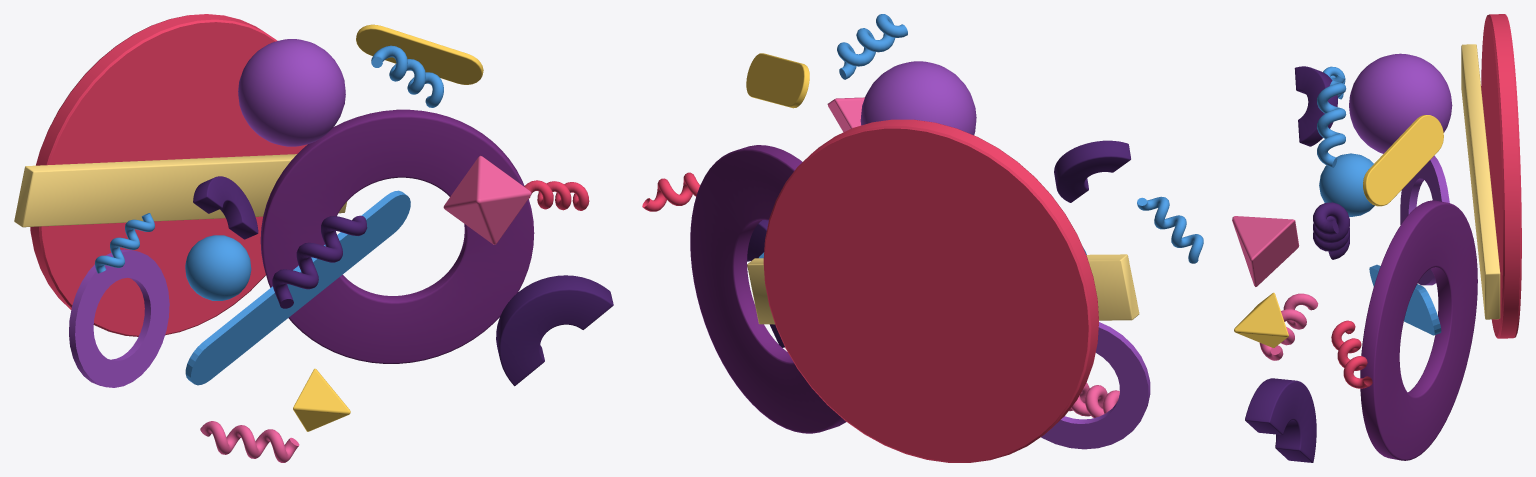
File: background.glb
The picture shows the model from 3 angles, left to right: view 1: azimuth 30°, elevation 25°; view 2: azimuth 150°, elevation 25°; view 3: azimuth 270°, elevation 25°; orthographic projection. The views are drawn at different scales.
Visible parts, largest first — view 1: Cylinder, Cylinder.009, Cylinder.004, Sphere, long_circle.002, background.008, background.001, background, background.010, Cylinder.007, background.004, background.020 (+5 smaller); view 2: Cylinder, Cylinder.009, Sphere, background.008, Cylinder.004, background.020, Cylinder.007, background.007, background.016, background.019, background.013, background (+1 smaller); view 3: Cylinder.009, Cylinder, Sphere, Cylinder.004, background.001, Cylinder.007, background, background.010, background.020, background.009, background.004, background.008 (+4 smaller).
Boxes of the visible parts, <box> form: Cylinder: <box>30,14,307,336</box>; Cylinder.009: <box>260,109,534,363</box>; Cylinder.004: <box>14,154,347,227</box>; Sphere: <box>238,39,345,146</box>; long_circle.002: <box>185,190,410,385</box>; background.008: <box>69,249,169,387</box>; background.001: <box>496,275,613,386</box>; background: <box>443,155,531,244</box>; background.010: <box>185,235,251,300</box>; Cylinder.007: <box>356,24,483,84</box>; background.004: <box>272,215,367,304</box>; background.020: <box>193,176,258,239</box>; Cylinder: <box>763,119,1098,462</box>; Cylinder.009: <box>690,145,846,433</box>; Sphere: <box>860,61,976,135</box>; background.008: <box>1041,322,1150,449</box>; Cylinder.004: <box>747,254,1139,324</box>; background.020: <box>1054,140,1130,202</box>; Cylinder.007: <box>746,53,809,108</box>; background.007: <box>837,14,907,79</box>; background.016: <box>1137,196,1203,263</box>; background.019: <box>1069,382,1119,417</box>; background.013: <box>642,172,699,211</box>; background: <box>827,97,864,132</box>; Cylinder.009: <box>1360,200,1477,460</box>; Cylinder: <box>1481,14,1521,338</box>; Sphere: <box>1349,53,1452,153</box>; Cylinder.004: <box>1461,44,1500,319</box>; background.001: <box>1245,378,1316,462</box>; Cylinder.007: <box>1363,115,1443,206</box>; background: <box>1232,216,1299,286</box>; background.010: <box>1319,153,1374,216</box>; background.020: <box>1294,66,1337,146</box>; background.009: <box>1234,292,1288,347</box>; background.004: <box>1313,202,1349,259</box>; background.008: <box>1400,155,1449,285</box>.
Bounding box in the file's own units: 7.85 × 5.24 × 4.02.
